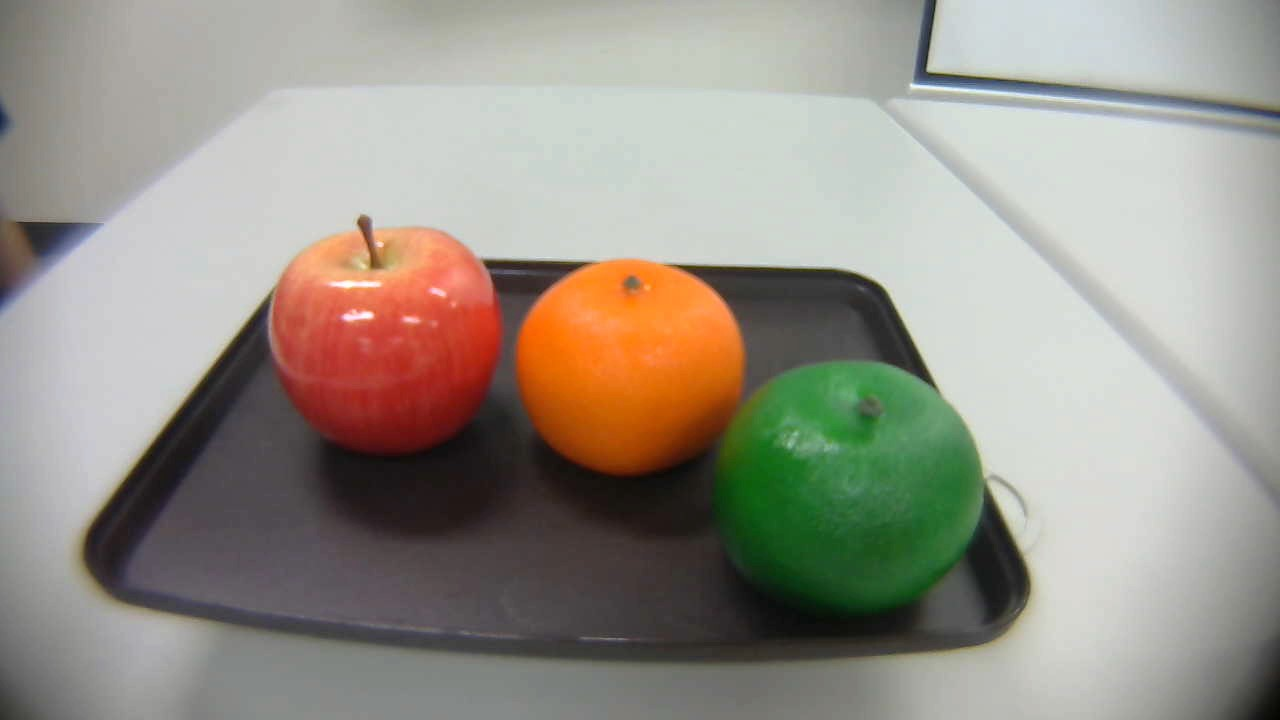green orange: (709, 356, 984, 622)
orange: (512, 232, 747, 487)
red apple: (260, 209, 509, 464)
